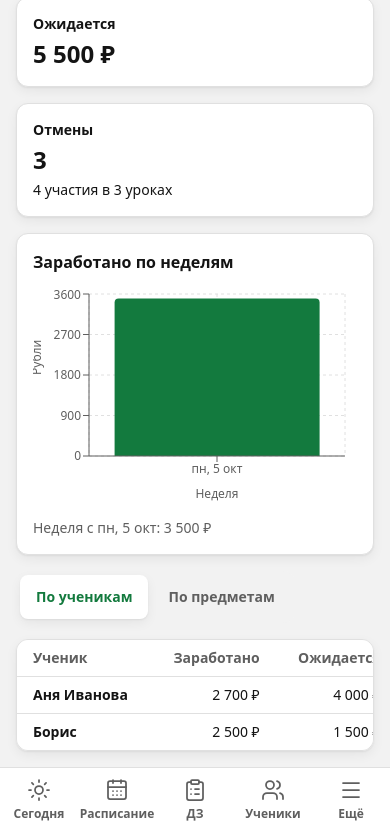
Test case: Финансы › владелец: карточки, таблица по ученикам, график по неделям; срез «по предметам»
The image size is (390, 832).
(page scrolled)
Expected: the text "5 500 ₽" is shown, [33,37,115,70]
Expected: the row "Аня Иванова 2 700 ₽ 4 000 ₽ 3" is shown, [17,676,374,714]
Press the mouse on the tab "По предметам" at (222, 597), box [152,575,291,619]
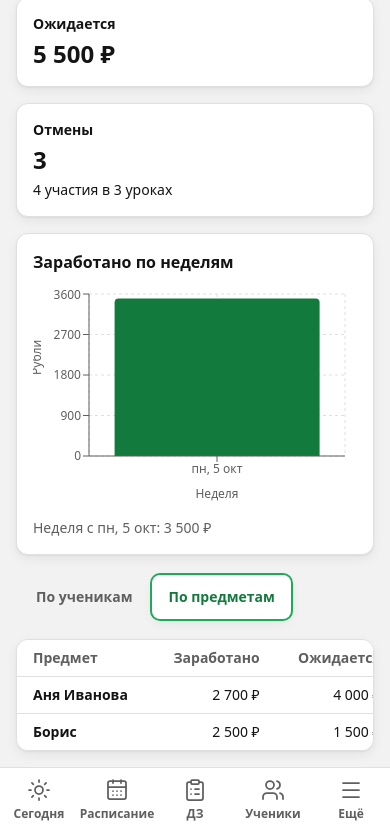
Click the tab "По предметам" at (222, 597), box [152,575,291,619]
(page scrolled)
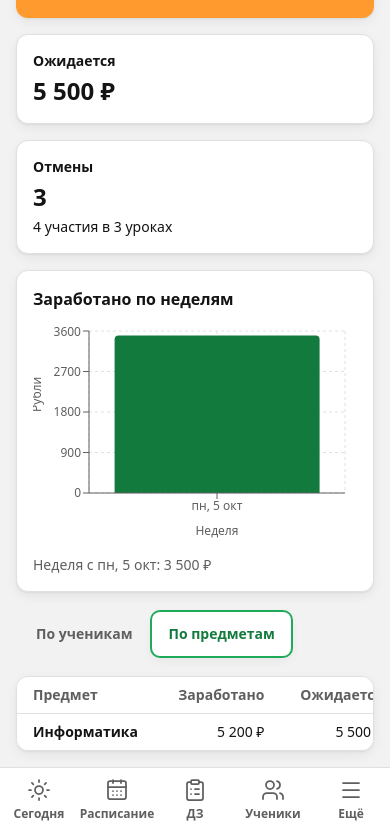
Expected: the row "Информатика 5 200 ₽ 5 500 ₽ 3" is shown, [17,714,374,750]
